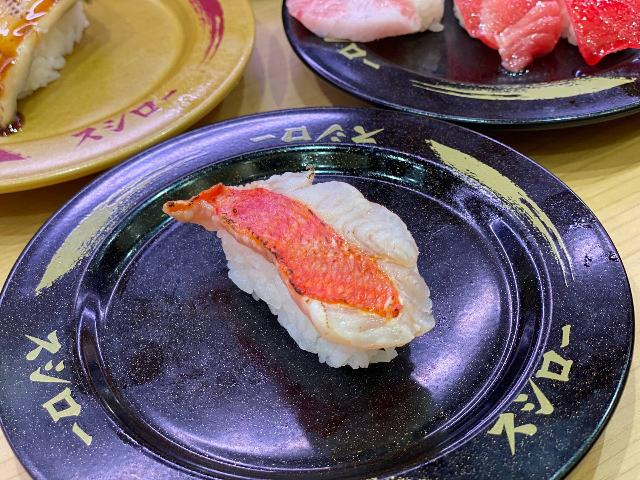janback: (436, 118, 629, 480), (0, 369, 439, 480), (0, 164, 171, 365), (291, 58, 640, 129), (149, 117, 452, 168)
jangold: (81, 5, 275, 99), (0, 111, 179, 161)
